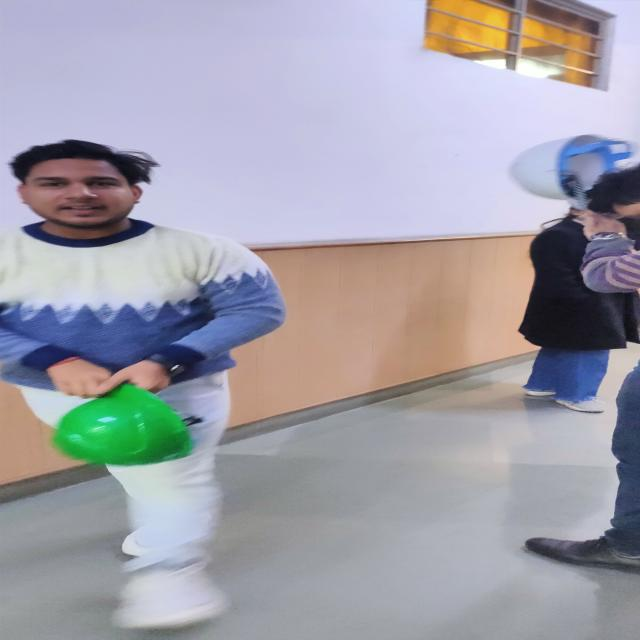unsafe: (0, 139, 289, 627), (520, 208, 617, 414)
